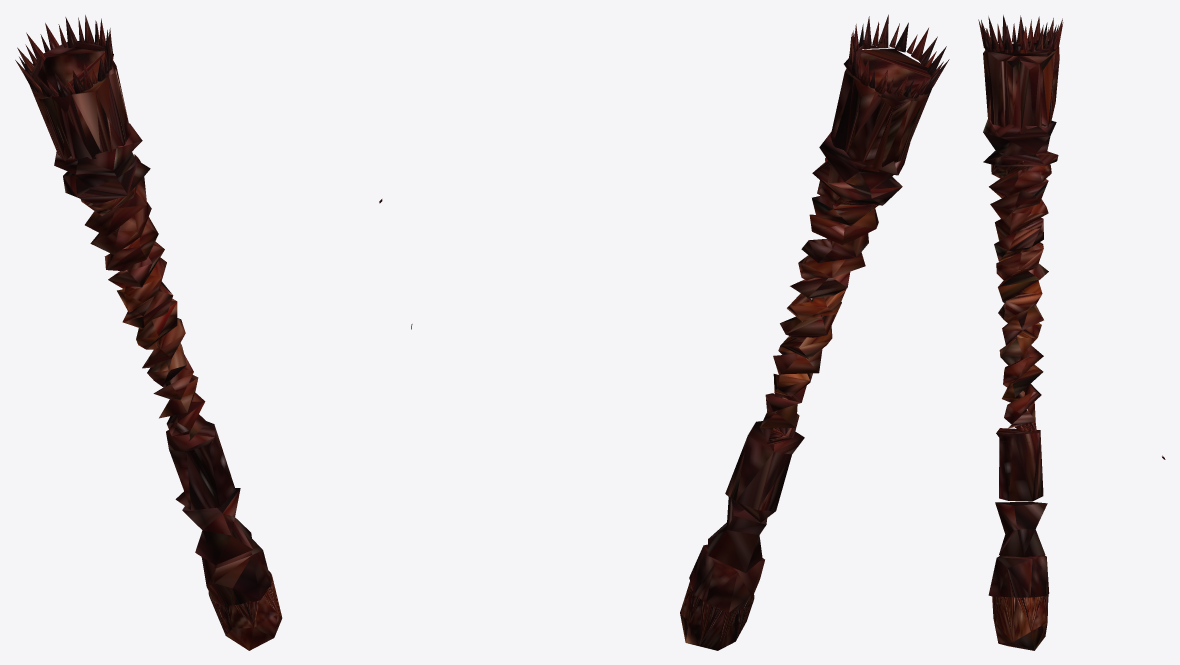
Rendered from antorchaInclinadaO.obj.
3 renders of one model, left to right at view 1: azimuth 30°, elevation 25°; view 2: azimuth 150°, elevation 25°; view 3: azimuth 270°, elevation 25°, orthographic. The views are drawn at different scales.
Size of the model in its own units: 5.19 by 7.37 by 2.22.
Materials: 1 (1 with a texture image).
